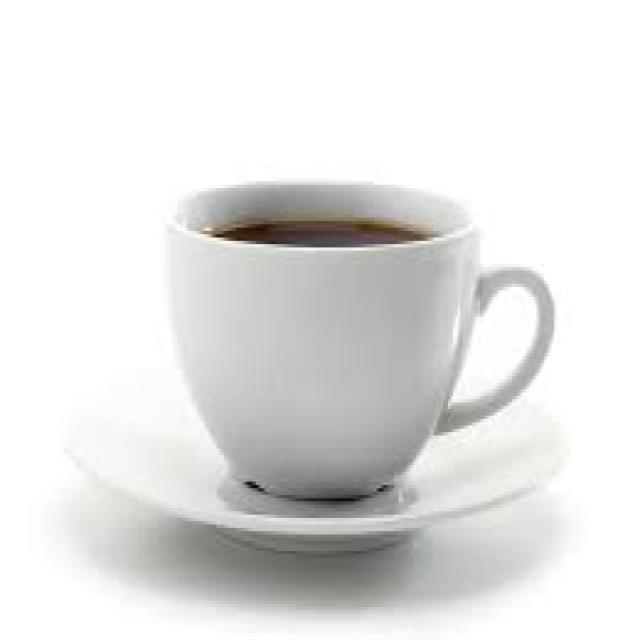taza: (157, 155, 558, 498)
